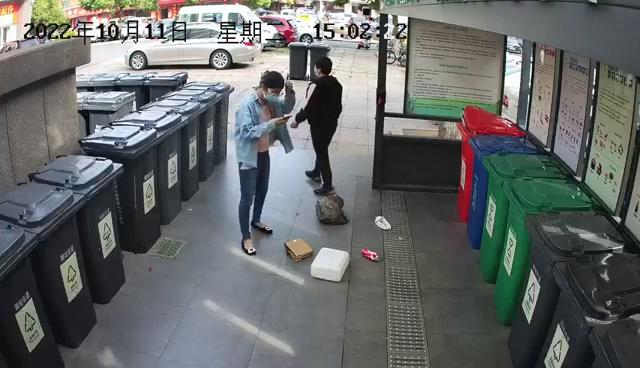lvzhipin: (373, 214, 393, 232), (361, 247, 382, 264)
paomozhipin: (310, 246, 350, 284)
person: (290, 56, 343, 195)
suliaozhipin: (316, 193, 351, 226)
worker: (234, 69, 297, 257)
zhizhipin: (284, 237, 314, 264)
